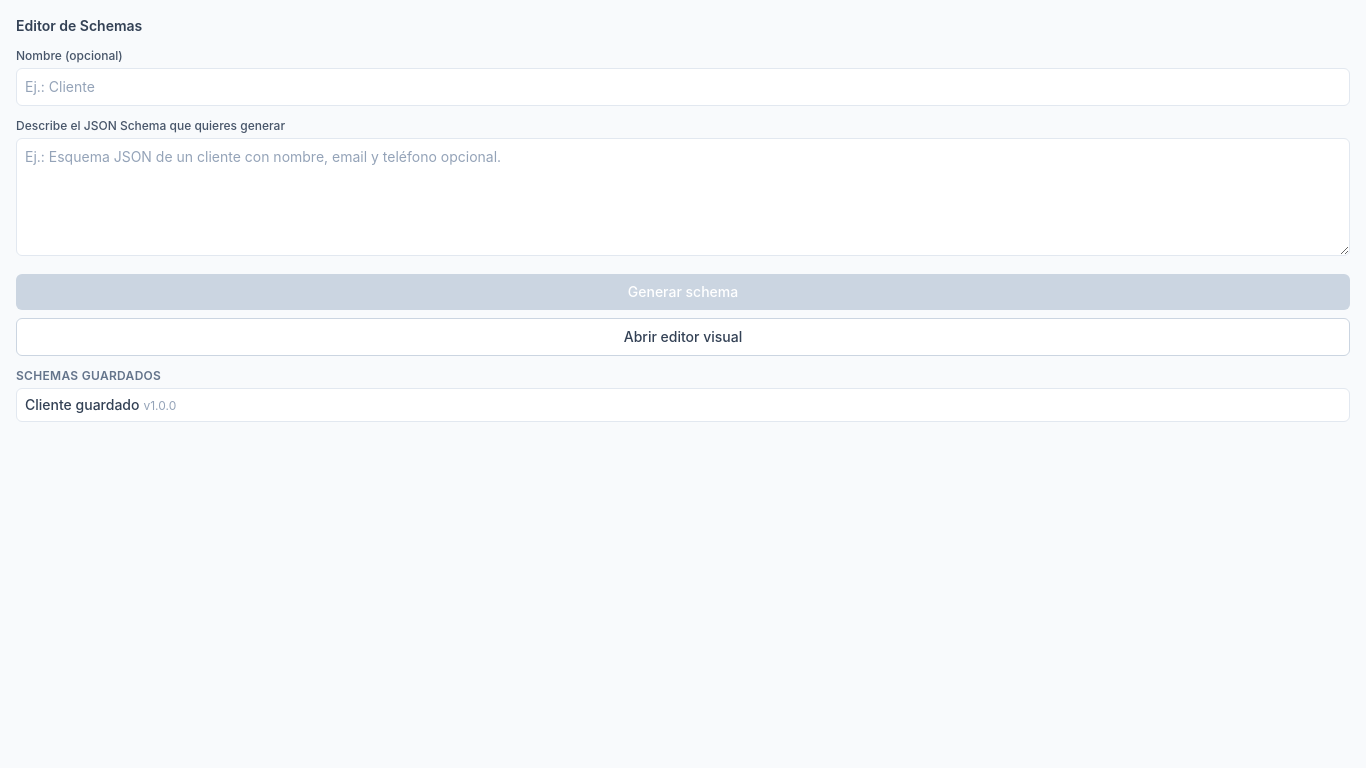
Scenario: DeveloperSchemaPanel › crea una nueva versión con la nota del cambio y la muestra en la lista
Click the button "Cliente guardado": [82, 404] box [16, 388, 1350, 422]
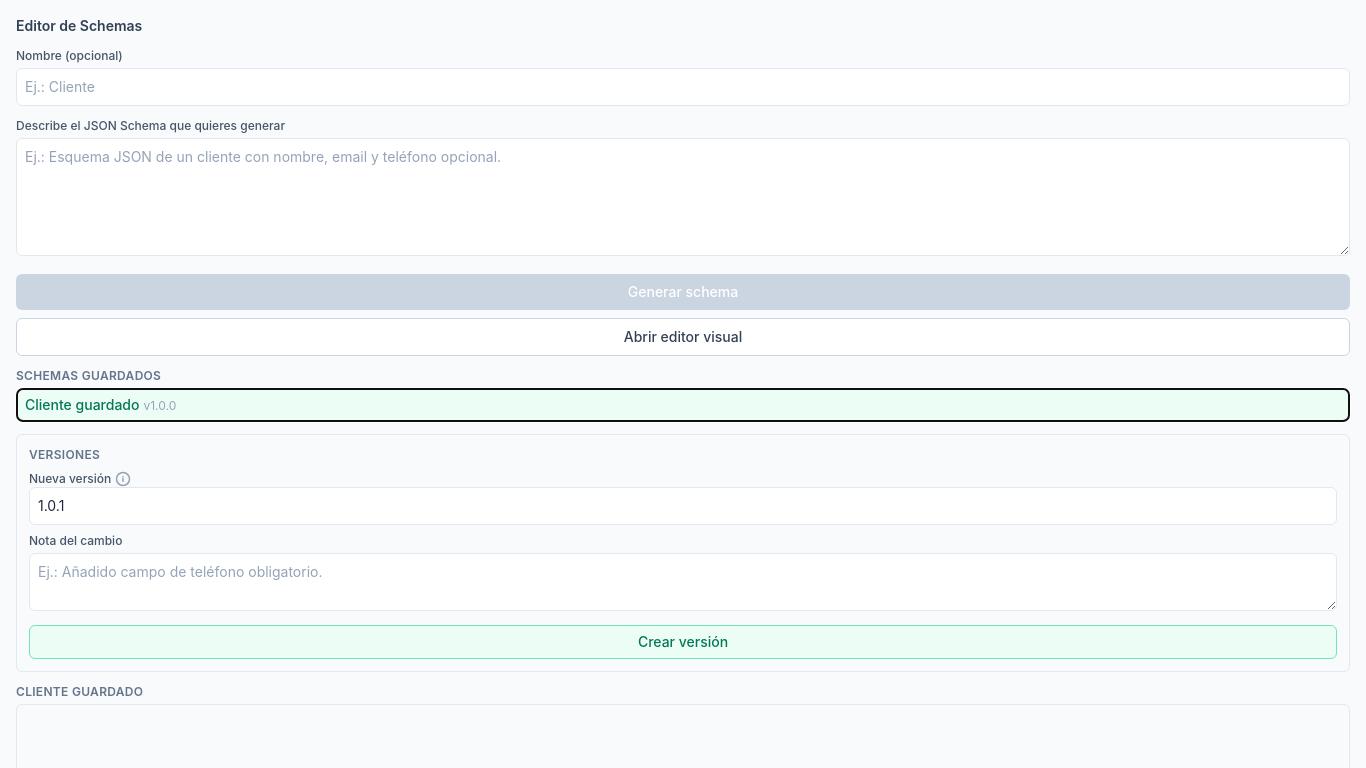
Replace the text in the field labelled "Nueva versión" with "1.1.0": [683, 506] box [29, 487, 1337, 525]
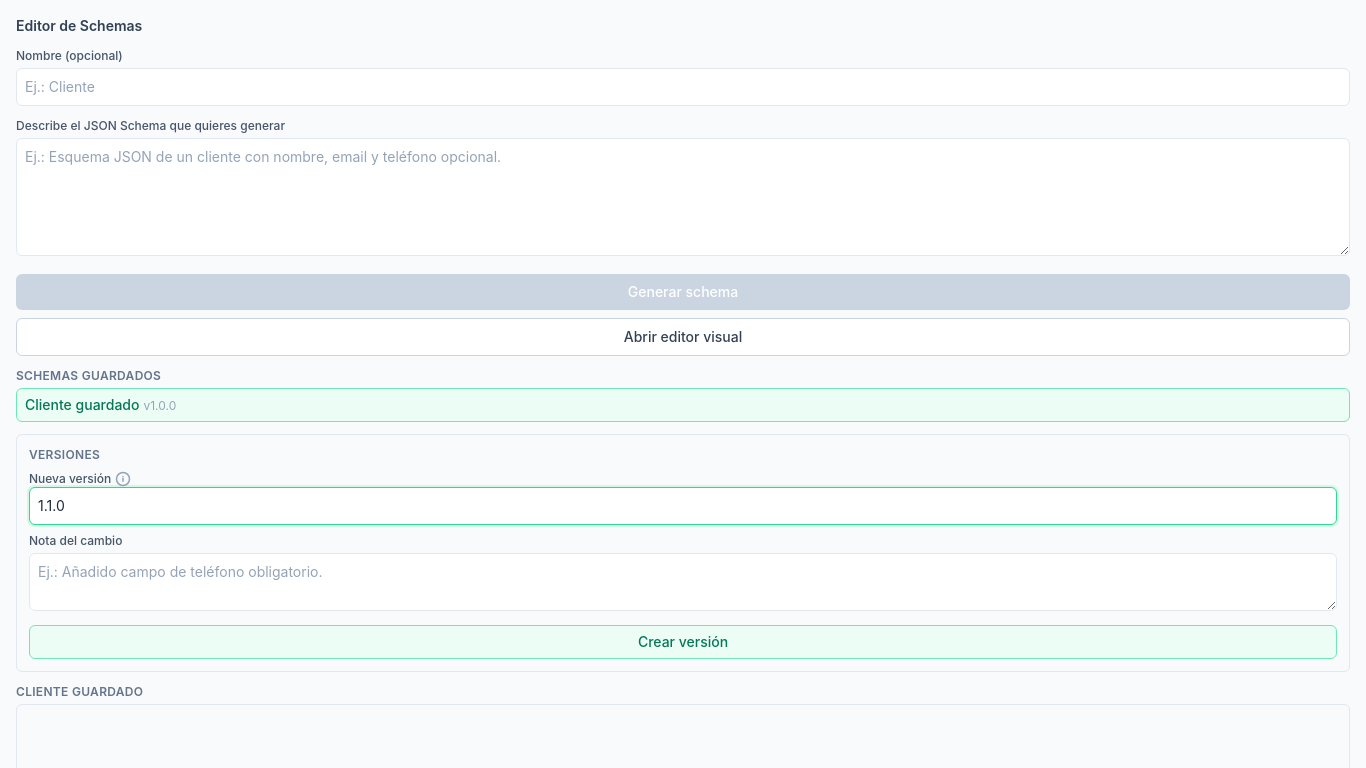
In the text box labelled "Nota del cambio": [683, 582] box [29, 553, 1337, 611], type "Añadido teléfono"
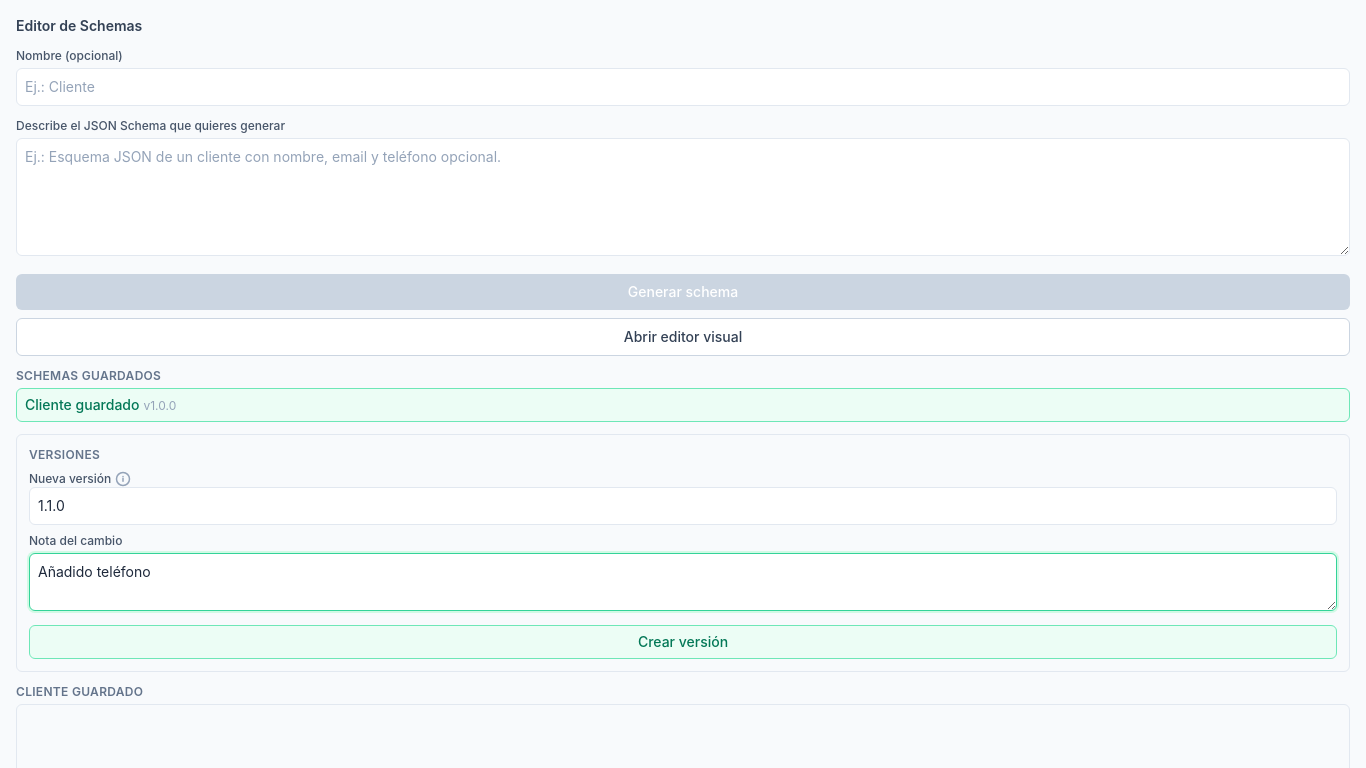
Click the button "Crear versión": [683, 642] box [29, 625, 1337, 659]
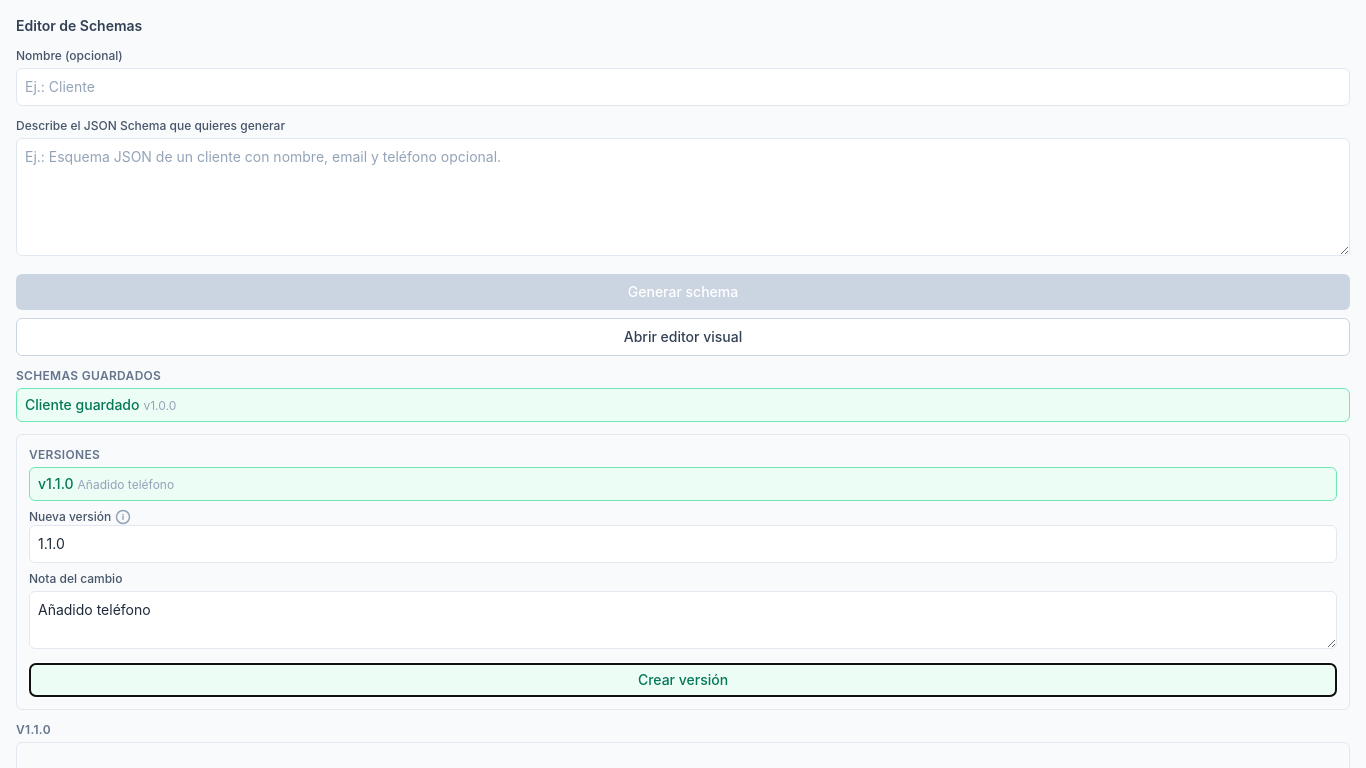
Expected: the button "v1.1.0Añadido teléfono" is shown, [29, 467, 1337, 501]
Expected: the heading "v1.1.0" is shown, [16, 722, 51, 737]
